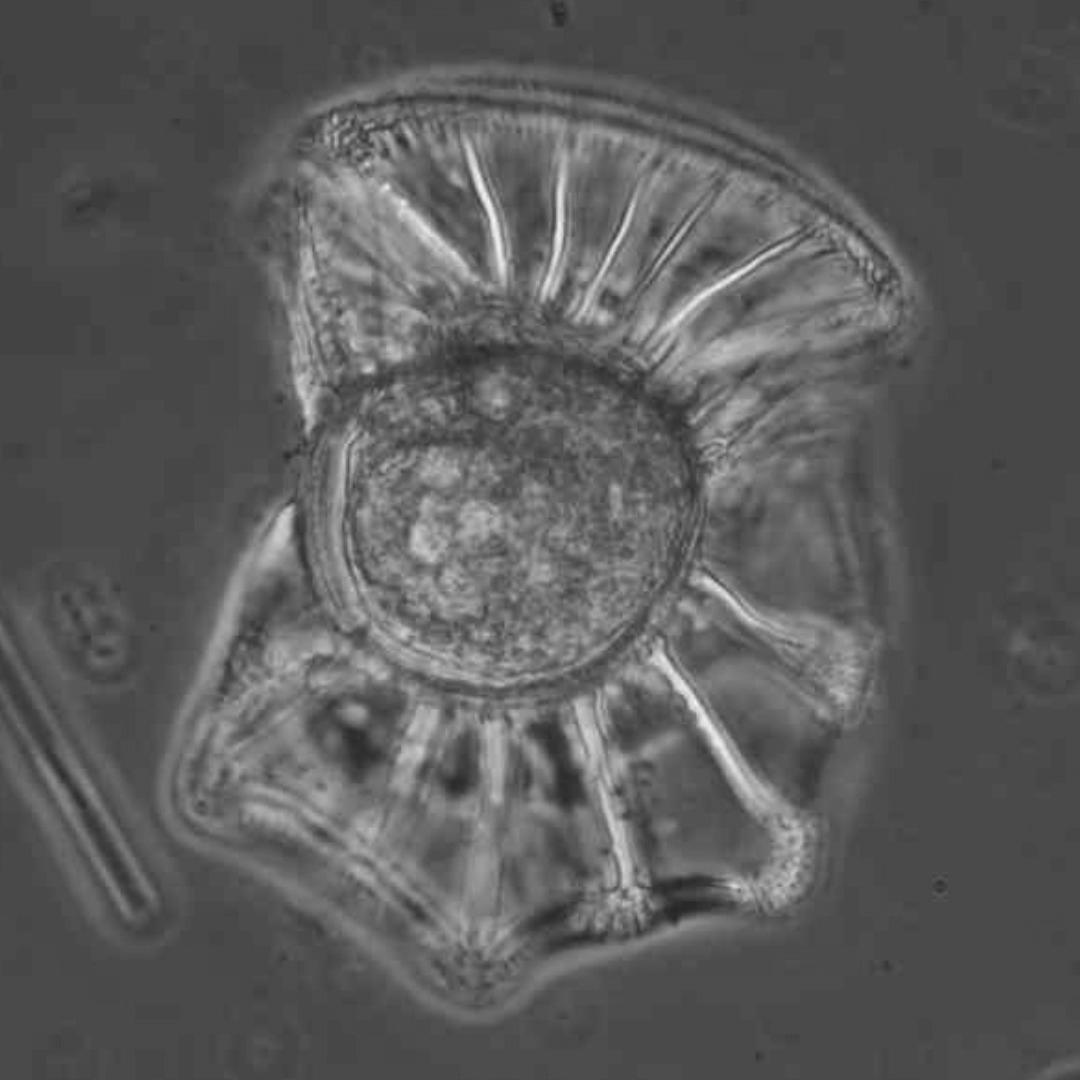ornithocercus_thumii: (174, 76, 915, 1012)
